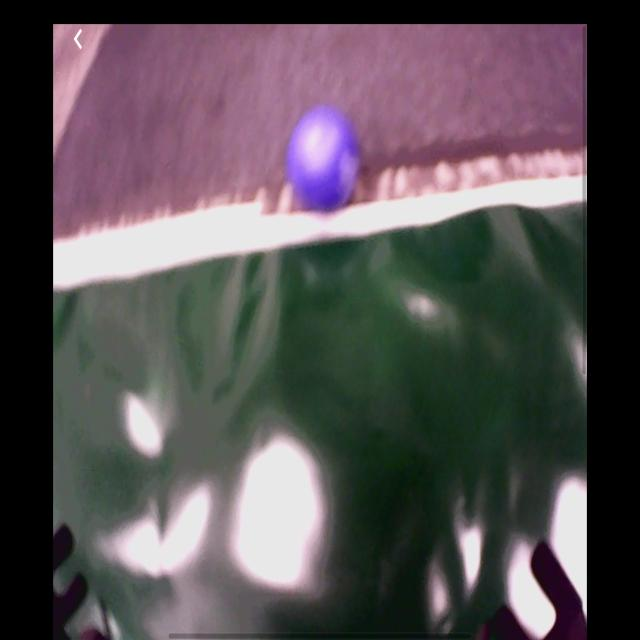ball: (289, 107, 358, 212)
